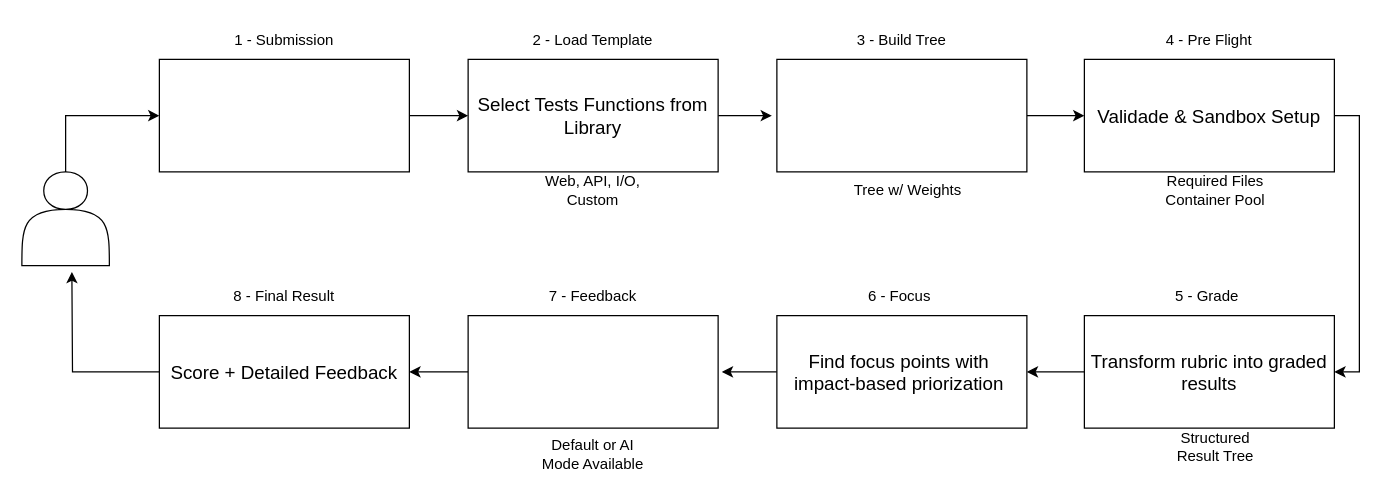
This 1391x494 diagram has some shape labels left out. Each missing label, with the box of its shape:
Construc Grading Rubric: (776, 58, 1027, 172)
Generate Targeted Feedback: (467, 314, 718, 428)
Students Files Received: (158, 58, 409, 172)
